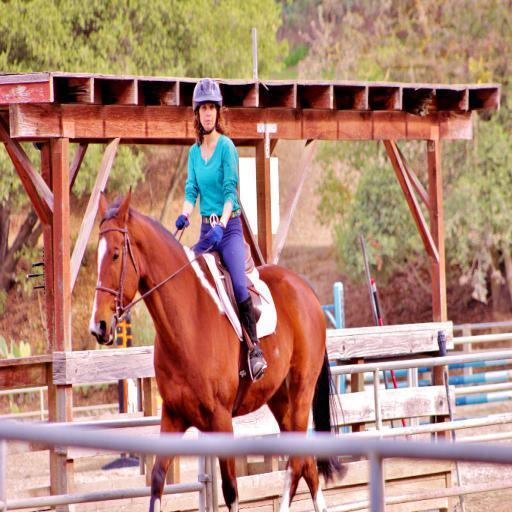horse: (86, 184, 352, 512)
